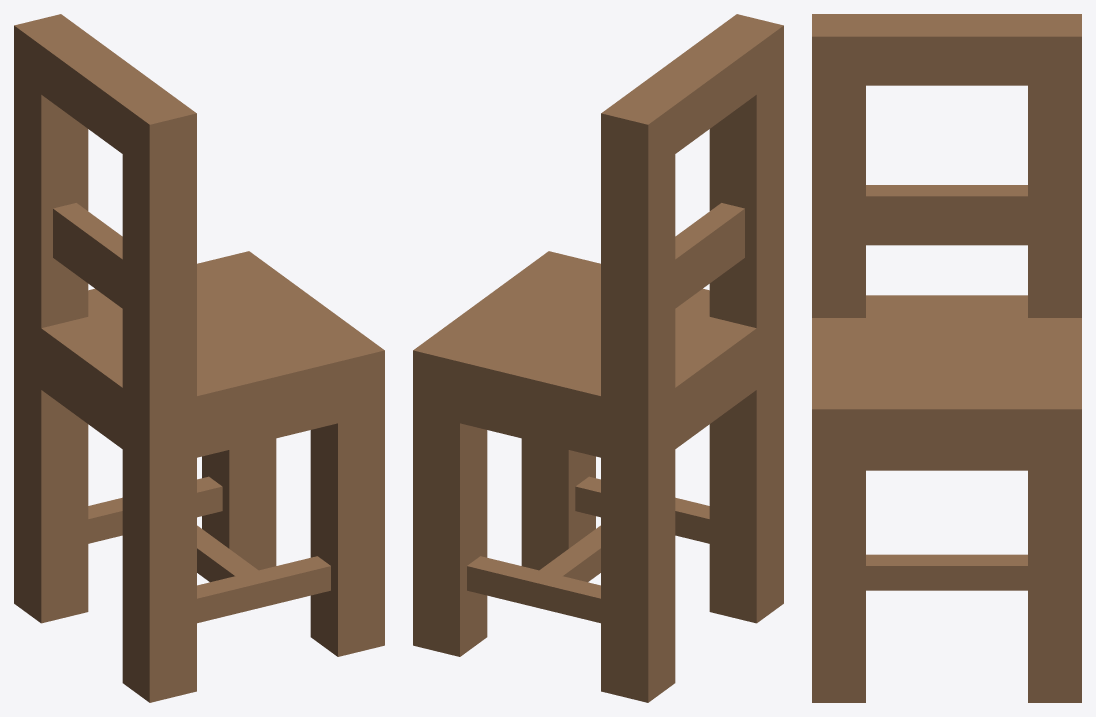
The model's file is chair.dae.
The picture shows the model from 3 angles, left to right: view 1: azimuth 30°, elevation 25°; view 2: azimuth 150°, elevation 25°; view 3: azimuth 270°, elevation 25°; orthographic projection.
Parts seen in each view (by area): view 1: chair; view 2: chair; view 3: chair.
Part boxes in pixels (<box>): chair: <box>14,14,384,702</box>; chair: <box>413,14,783,702</box>; chair: <box>812,14,1081,702</box>.
Bounding box in the file's own units: 0.3833 × 0.3833 × 0.9008.
